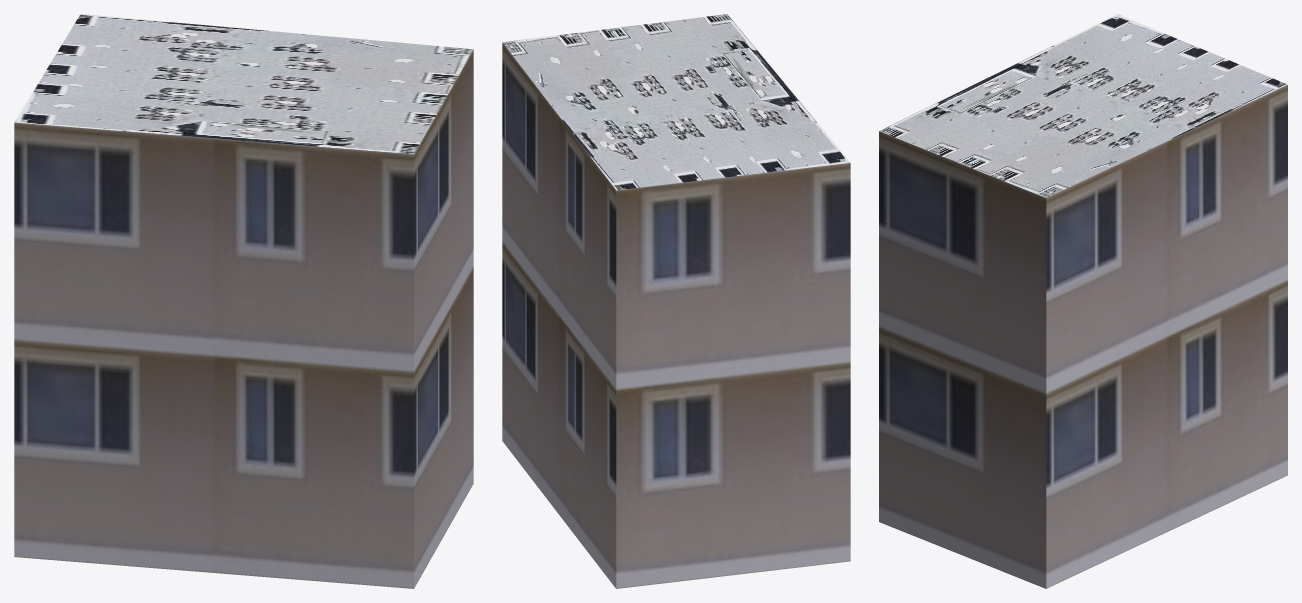
Rendered from ResTex__4181.fbx.
3 renders of one model, left to right at view 1: azimuth 30°, elevation 25°; view 2: azimuth 150°, elevation 25°; view 3: azimuth 270°, elevation 25°, orthographic. The views are drawn at different scales.
Visible parts, largest first — view 1: CityEngineMaterial_21_m, CityEngineMaterial_m; view 2: CityEngineMaterial_21_m, CityEngineMaterial_m; view 3: CityEngineMaterial_21_m, CityEngineMaterial_m.
Boxes of the visible parts, box(x1,y1,x2,y2) form: CityEngineMaterial_21_m: box(14, 49, 473, 588); CityEngineMaterial_m: box(14, 14, 473, 154); CityEngineMaterial_21_m: box(502, 43, 850, 588); CityEngineMaterial_m: box(502, 14, 850, 190); CityEngineMaterial_21_m: box(879, 85, 1287, 588); CityEngineMaterial_m: box(879, 14, 1287, 197).
Size of the model in its own units: 6.06 by 6 by 5.69.
Materials: 2 (2 with a texture image).
